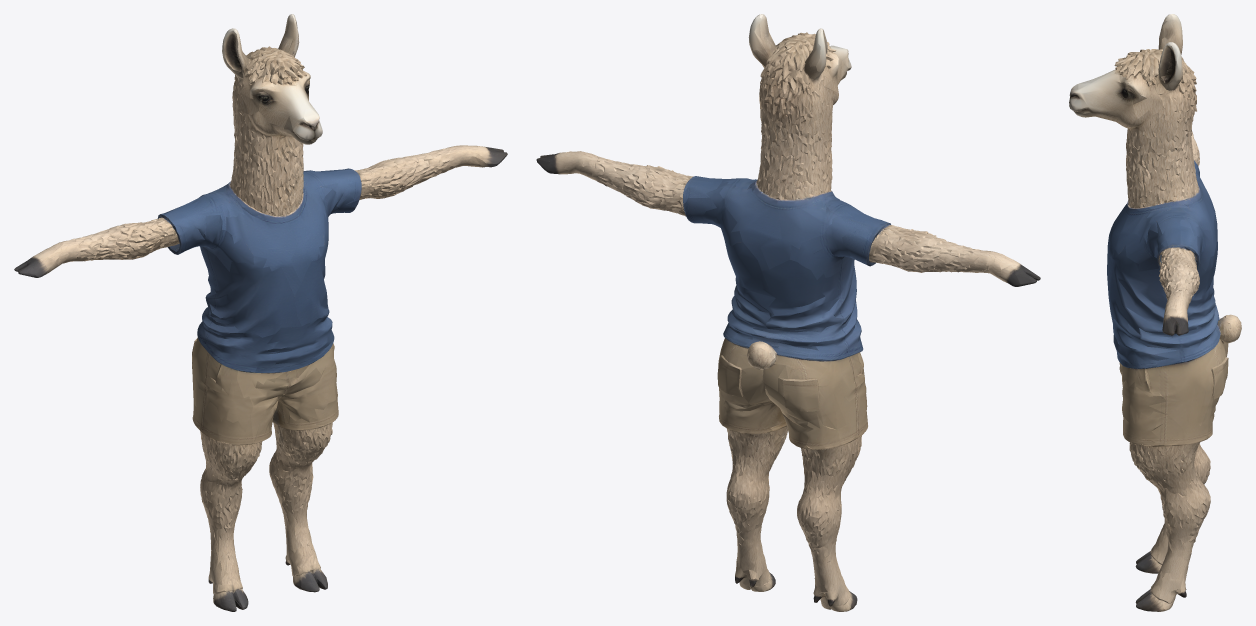
The model's file is llama-anthro.glb.
3 renders of one model, left to right at view 1: azimuth 30°, elevation 25°; view 2: azimuth 150°, elevation 25°; view 3: azimuth 270°, elevation 25°, orthographic. The views are drawn at different scales.
Bounding box in the file's own units: 1.71 × 1.9 × 0.5324.
Materials: 1 (1 with a texture image).
